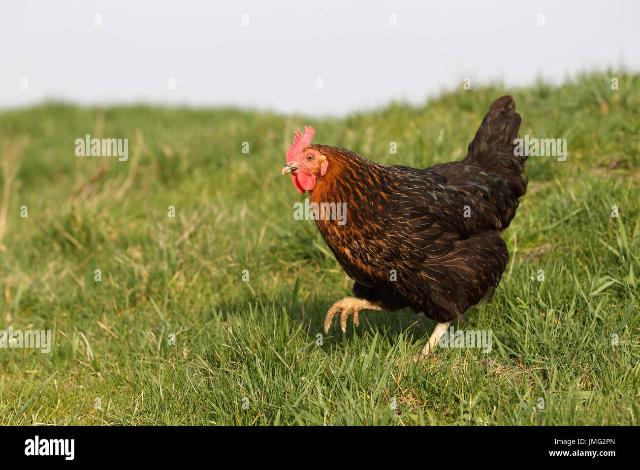Chicken: (283, 95, 529, 354)
